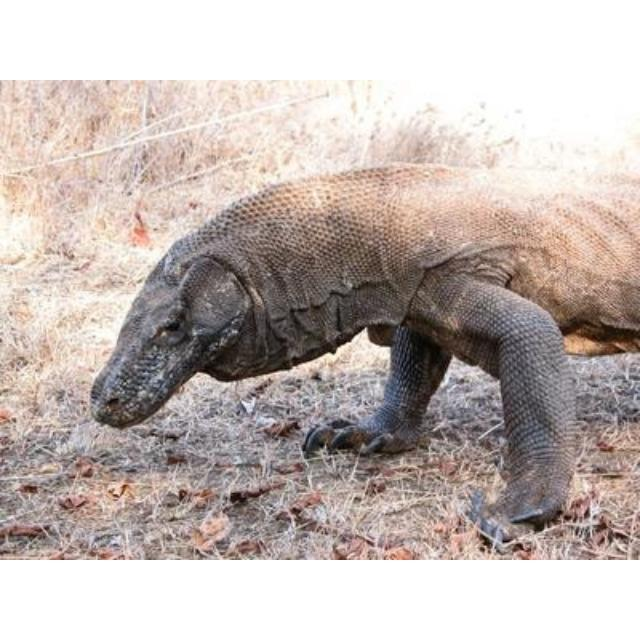KomodoDragon: (82, 160, 637, 540)
